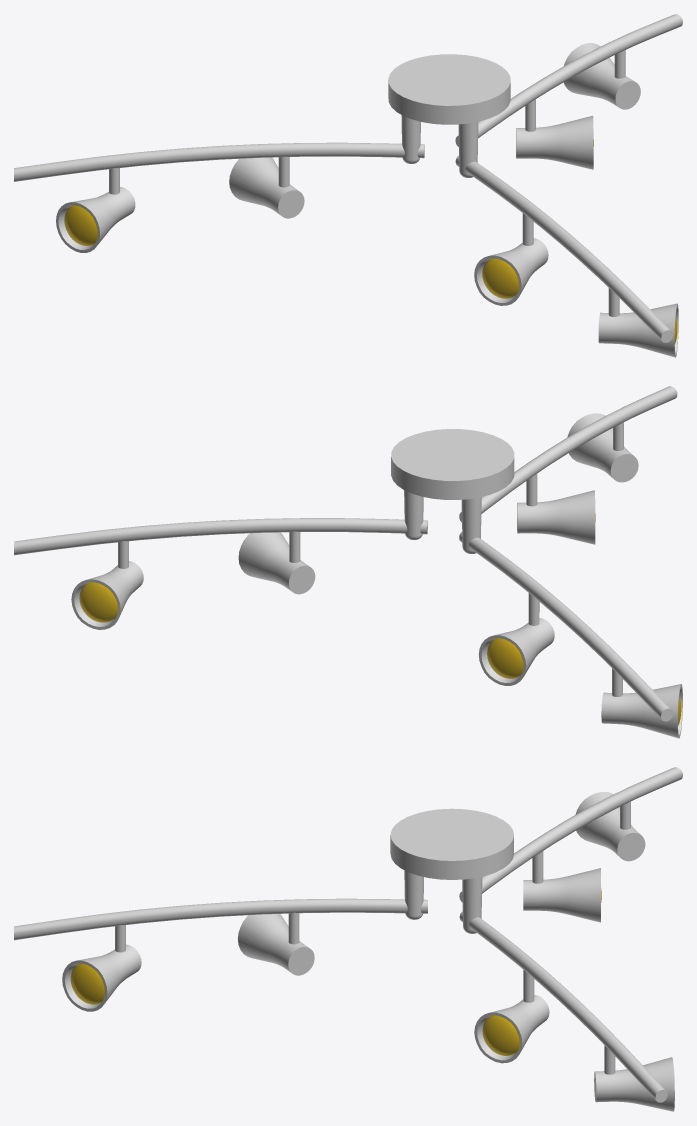
Rendered from Spot4_2.fbx.
3 views of the same model, one above another, from view 1: azimuth 30°, elevation 25°; view 2: azimuth 150°, elevation 25°; view 3: azimuth 270°, elevation 25° (orthographic).
Parts seen in each view (by area): view 1: pCylinder1364, pCylinder1365, pCylinder1362, pCylinder1363, pCylinder1359, pCylinder1369, pCylinder1370, pCylinder1367, pCylinder1358, pCylinder1373, pCylinder1361, pSphere179 (+1 smaller); view 2: pCylinder1364, pCylinder1363, pCylinder1365, pCylinder1367, pCylinder1362, pCylinder1369, pCylinder1373, pCylinder1370, pCylinder1359, pCylinder1358, pCylinder1361, pSphere182 (+1 smaller); view 3: pCylinder1364, pCylinder1362, pCylinder1363, pCylinder1365, pCylinder1358, pCylinder1370, pCylinder1367, pCylinder1369, pCylinder1373, pCylinder1359, pCylinder1361, pSphere183 (+1 smaller).
Part boxes in pixels (x1,y1,x2,y2): pCylinder1364: (388,54,510,124); pCylinder1365: (14,142,424,181); pCylinder1362: (455,155,672,342); pCylinder1363: (455,14,682,146); pCylinder1359: (56,187,135,252); pCylinder1369: (474,238,548,305); pCylinder1370: (516,115,593,169); pCylinder1367: (229,157,304,218); pCylinder1358: (598,303,678,357); pCylinder1373: (563,43,640,109); pCylinder1361: (401,115,478,177); pSphere179: (482,258,518,298); pCylinder1364: (391,429,514,499); pCylinder1363: (14,518,427,555); pCylinder1365: (459,532,672,721); pCylinder1367: (478,618,554,685); pCylinder1362: (459,386,677,522); pCylinder1369: (517,490,595,544); pCylinder1373: (71,561,143,629); pCylinder1370: (238,532,315,594); pCylinder1359: (601,684,682,738); pCylinder1358: (567,413,638,482); pCylinder1361: (404,490,481,553); pSphere182: (79,582,117,622); pCylinder1364: (390,808,513,879); pCylinder1362: (14,898,427,940); pCylinder1363: (459,911,667,1102); pCylinder1365: (459,767,682,902); pCylinder1358: (62,944,141,1011); pCylinder1370: (474,995,549,1063); pCylinder1367: (523,868,600,922); pCylinder1369: (238,914,314,975); pCylinder1373: (594,1057,674,1111); pCylinder1359: (575,792,645,861); pCylinder1361: (404,870,482,933); pSphere183: (482,1015,519,1055).
Size of the model in its own units: 65.53 by 14.45 by 56.94.
